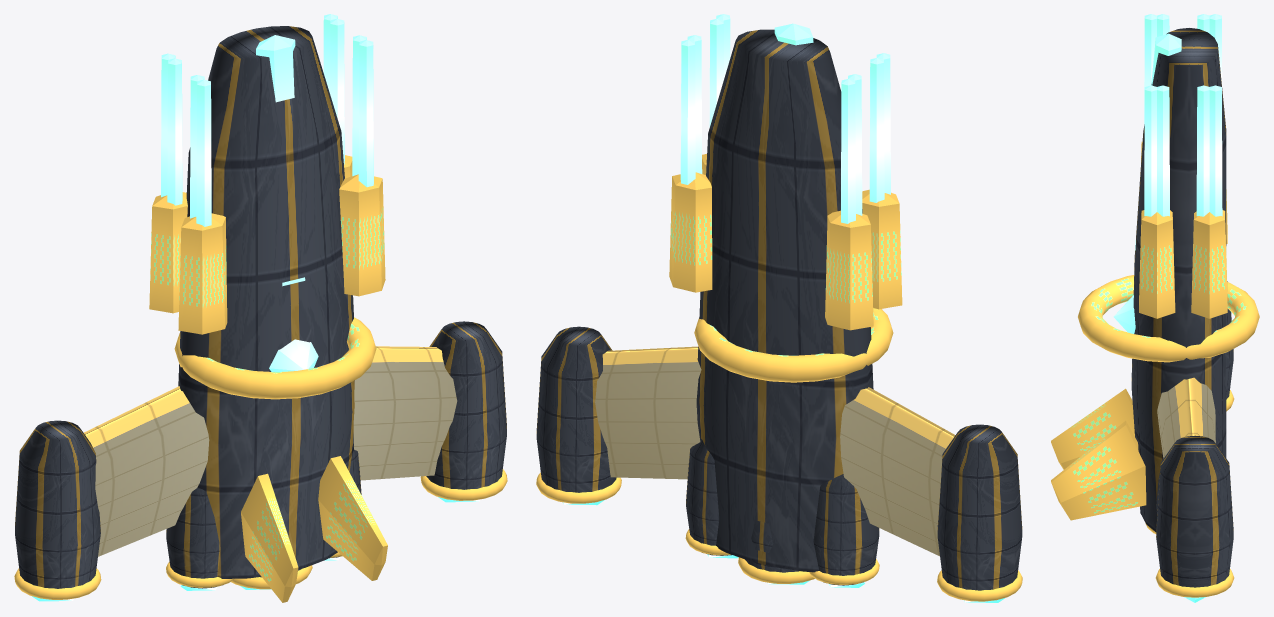
Rendered from ship_s3_zion_breaker.glb.
The picture shows the model from 3 angles, left to right: view 1: azimuth 30°, elevation 25°; view 2: azimuth 150°, elevation 25°; view 3: azimuth 270°, elevation 25°; orthographic projection. The views are drawn at different scales.
Parts seen in each view (by area): view 1: ship_s3_zion_breaker; view 2: ship_s3_zion_breaker; view 3: ship_s3_zion_breaker.
Part boxes in pixels (box(x1,y1,x2,y2)): ship_s3_zion_breaker: box(14, 14, 507, 602); ship_s3_zion_breaker: box(536, 14, 1022, 602); ship_s3_zion_breaker: box(1051, 14, 1259, 602).
Bounding box in the file's own units: 3.44 × 3.83 × 1.43.
Materials: 4 (4 with a texture image).
